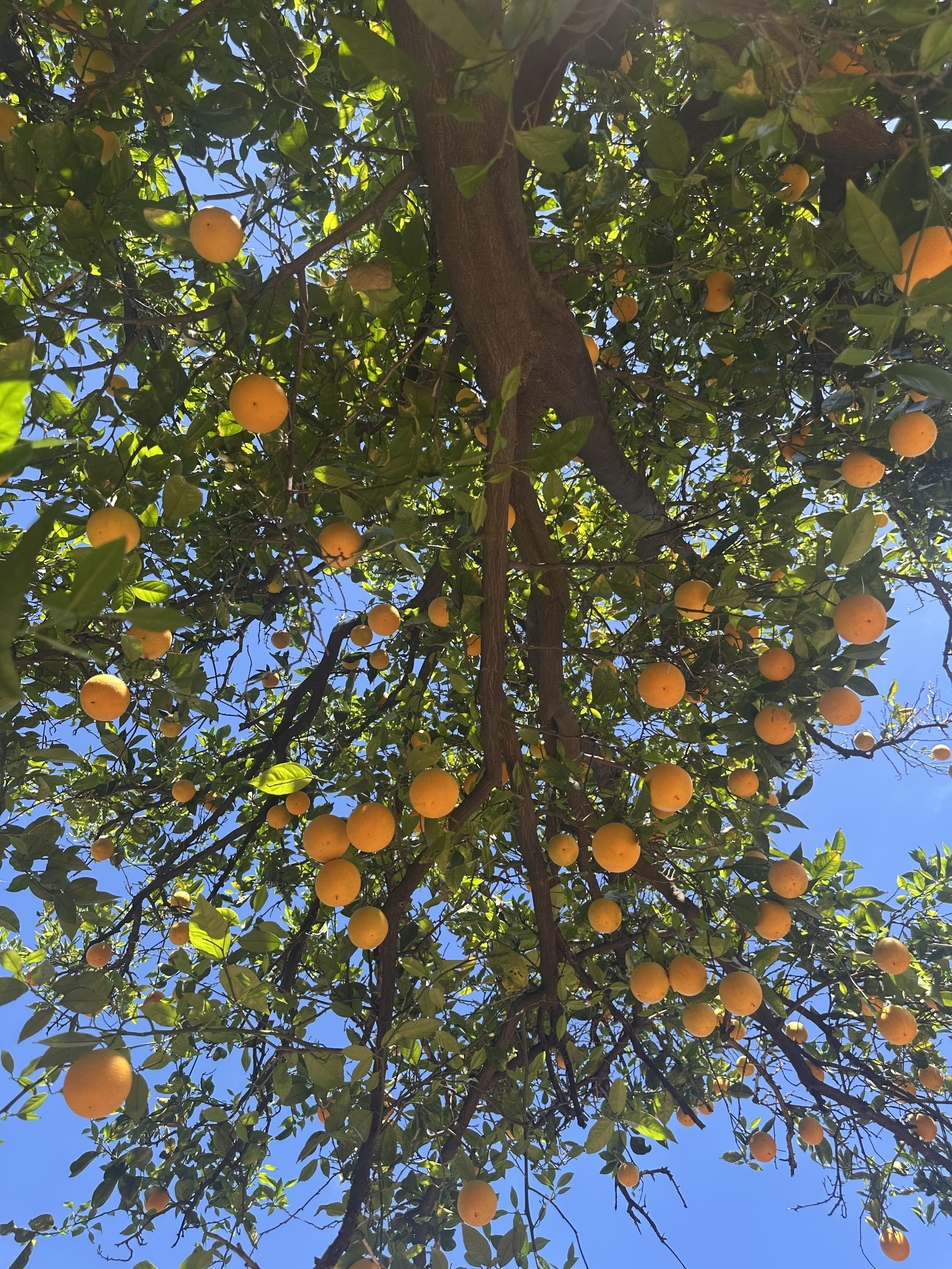orange: (63, 1049, 133, 1119), (892, 226, 952, 298), (229, 375, 288, 433), (190, 207, 243, 262), (832, 594, 886, 644), (86, 507, 141, 554), (409, 768, 459, 819), (592, 822, 641, 873), (346, 802, 395, 852), (80, 674, 130, 720), (645, 764, 693, 811), (315, 858, 361, 907), (303, 814, 349, 863), (317, 522, 364, 568), (638, 662, 685, 708), (889, 411, 937, 456), (719, 971, 762, 1016), (457, 1179, 497, 1227), (72, 41, 116, 83), (821, 43, 871, 79), (817, 686, 862, 725), (876, 1004, 917, 1046), (127, 623, 173, 660), (754, 705, 796, 745), (348, 907, 388, 948), (630, 962, 670, 1003), (842, 450, 885, 488), (667, 955, 707, 995), (768, 859, 809, 898), (675, 580, 715, 619), (872, 937, 911, 976), (754, 900, 791, 940), (702, 270, 736, 312), (41, 0, 84, 33), (683, 1002, 717, 1037), (778, 164, 808, 203), (588, 898, 621, 933), (758, 649, 794, 681), (91, 126, 120, 165), (879, 1227, 910, 1262), (368, 603, 400, 636), (547, 833, 578, 866), (725, 617, 758, 648), (0, 102, 24, 143), (728, 768, 759, 798), (602, 49, 633, 78), (429, 597, 458, 627), (749, 1131, 776, 1163), (859, 985, 884, 1017), (798, 1116, 824, 1146), (142, 1185, 170, 1212), (85, 941, 113, 968), (911, 1114, 937, 1142), (826, 401, 859, 423), (917, 1065, 944, 1091), (612, 295, 638, 322), (891, 1076, 916, 1103), (607, 257, 630, 286), (616, 1162, 640, 1188), (455, 390, 479, 415), (91, 837, 115, 862), (781, 435, 805, 460), (285, 792, 310, 816), (267, 805, 291, 830), (159, 714, 184, 738), (103, 375, 130, 397), (785, 1021, 809, 1045), (172, 779, 196, 803), (349, 624, 373, 648), (163, 1104, 186, 1128), (318, 1097, 338, 1124), (800, 419, 824, 441), (853, 731, 877, 752), (169, 922, 190, 946), (204, 792, 226, 814), (676, 1104, 697, 1127), (463, 772, 484, 795), (169, 890, 192, 910), (368, 649, 389, 670), (736, 1056, 756, 1078), (645, 822, 667, 842), (584, 335, 599, 364), (726, 1019, 746, 1040), (600, 347, 620, 368), (611, 113, 631, 134), (152, 106, 173, 126), (382, 1090, 395, 1121), (270, 630, 291, 649), (730, 466, 751, 485), (172, 981, 190, 1003), (807, 1060, 825, 1082), (685, 687, 709, 703), (711, 1076, 730, 1096), (411, 730, 431, 749), (473, 420, 488, 445), (592, 660, 616, 675), (559, 517, 579, 535), (465, 634, 481, 656), (530, 739, 548, 758), (349, 1258, 380, 1269), (342, 652, 360, 670), (697, 1096, 714, 1115), (932, 744, 952, 760), (25, 966, 39, 988), (266, 575, 283, 592), (319, 272, 336, 289), (262, 671, 279, 688), (769, 569, 791, 582), (144, 990, 164, 1004), (507, 503, 516, 533), (652, 808, 676, 819), (909, 390, 929, 403), (405, 625, 423, 639), (680, 648, 698, 662), (744, 851, 769, 861), (874, 512, 889, 528), (555, 1049, 566, 1070), (375, 692, 389, 708), (599, 1006, 612, 1023), (723, 828, 741, 840), (581, 762, 591, 783), (501, 762, 509, 786), (169, 950, 180, 967), (83, 1008, 103, 1017), (767, 792, 778, 806), (721, 355, 734, 366), (755, 643, 770, 651), (587, 991, 594, 1007), (573, 216, 582, 227), (506, 1130, 515, 1140), (524, 881, 532, 892), (571, 456, 584, 462), (473, 1166, 479, 1176), (948, 764, 952, 777)
